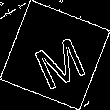M_NW: (24, 23, 86, 87)
